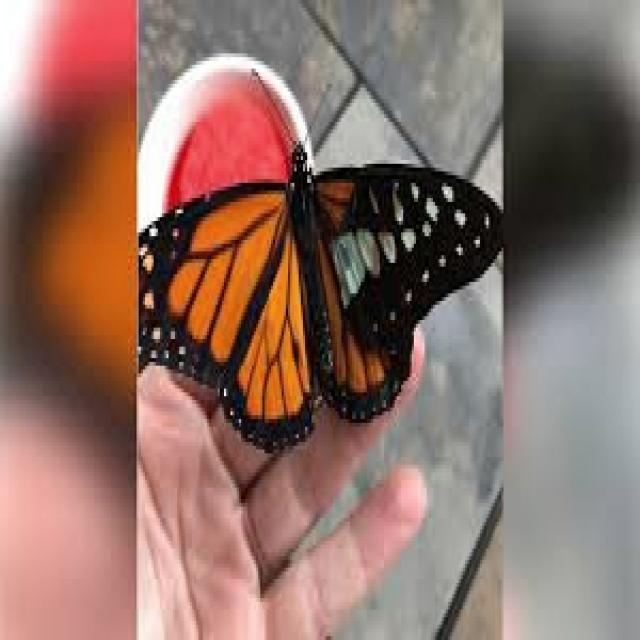butterfly: (141, 145, 503, 450)
